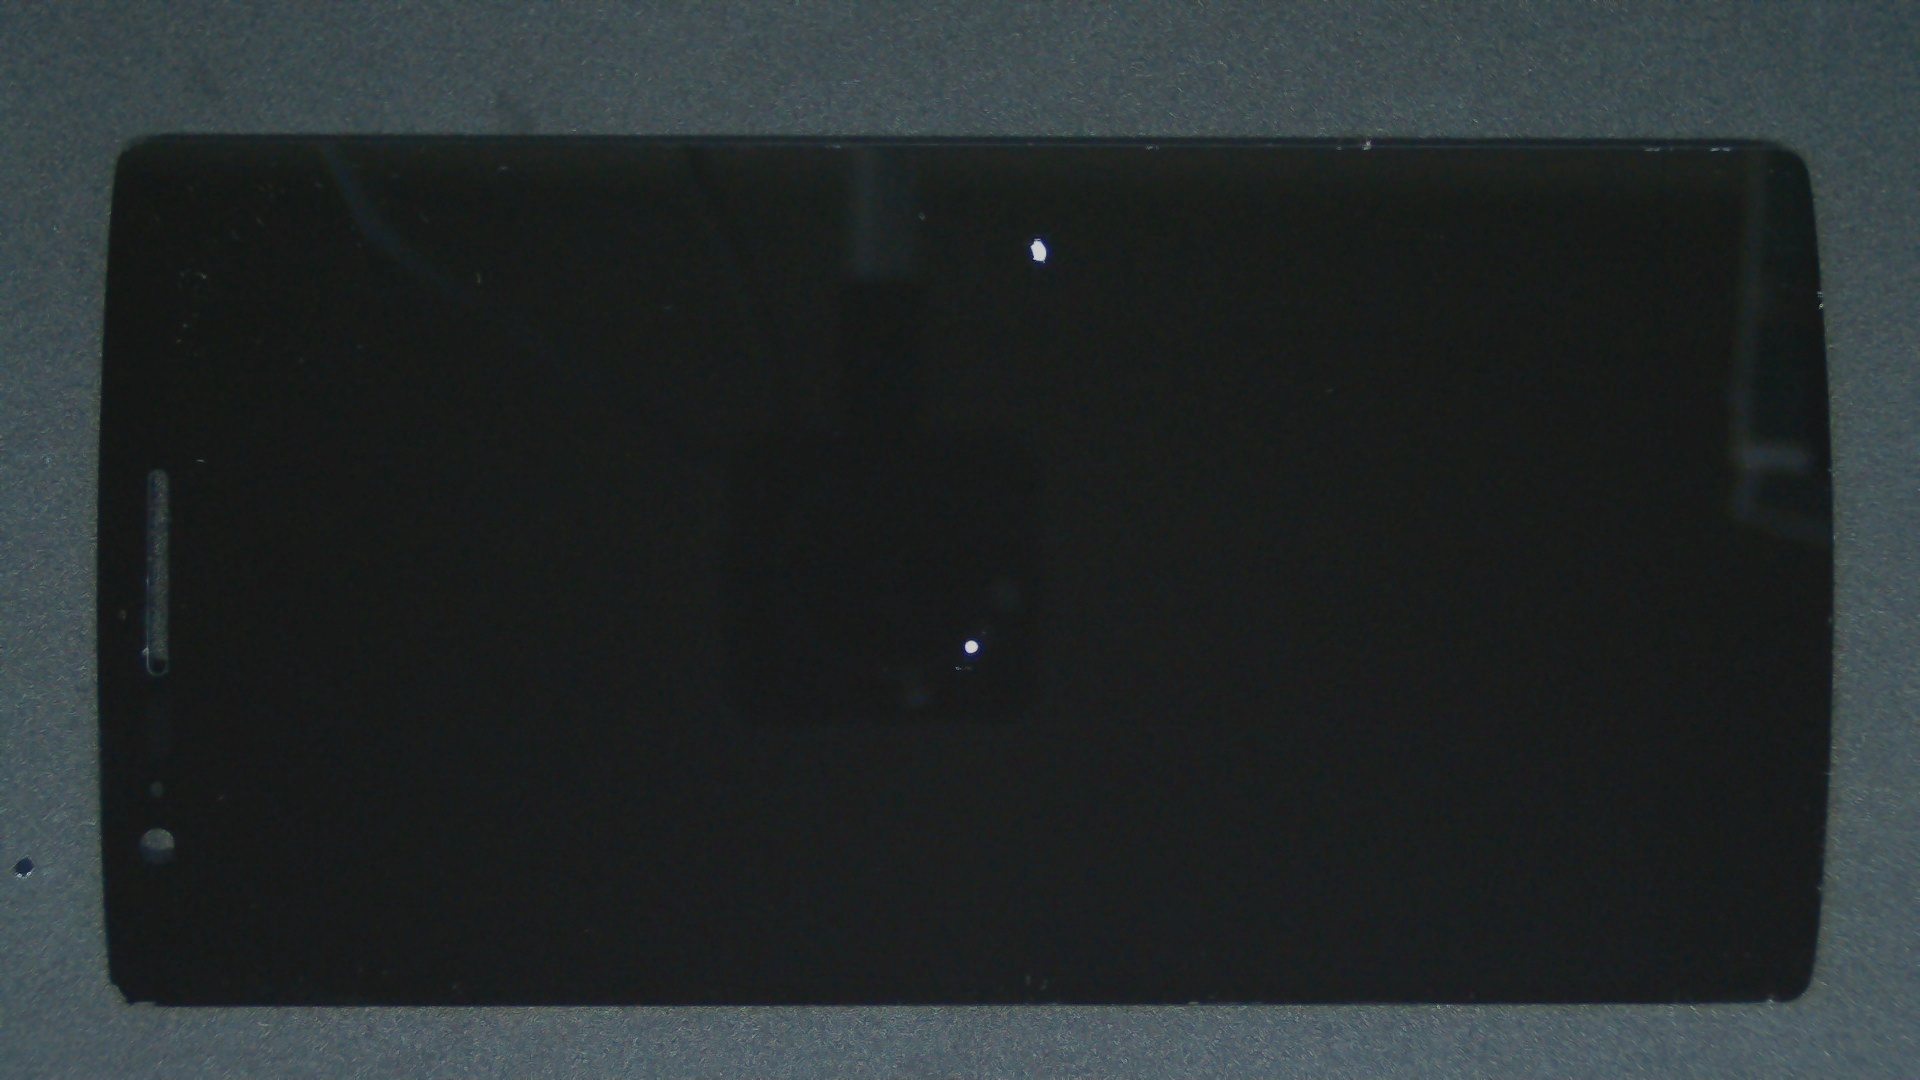oil: (485, 319, 1455, 959), (517, 117, 1548, 355)
